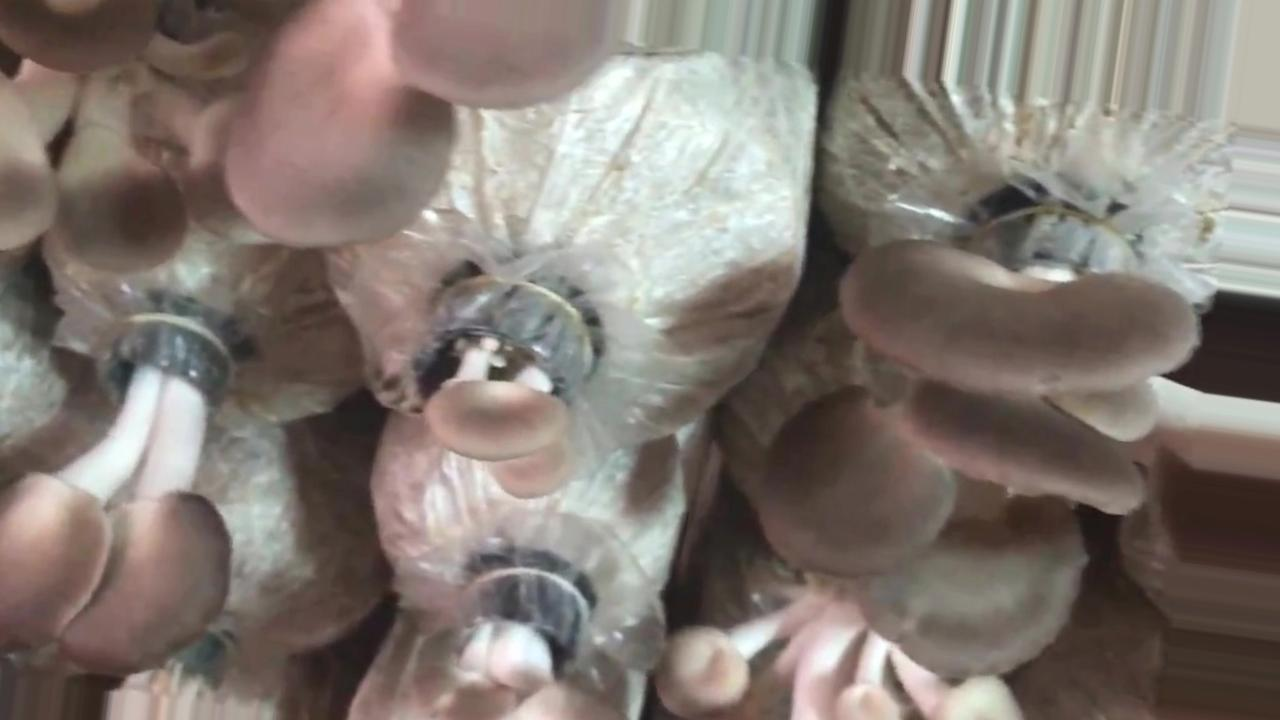nam: (760, 207, 1198, 680), (1, 1, 621, 271), (1, 314, 232, 672), (428, 282, 599, 499)
